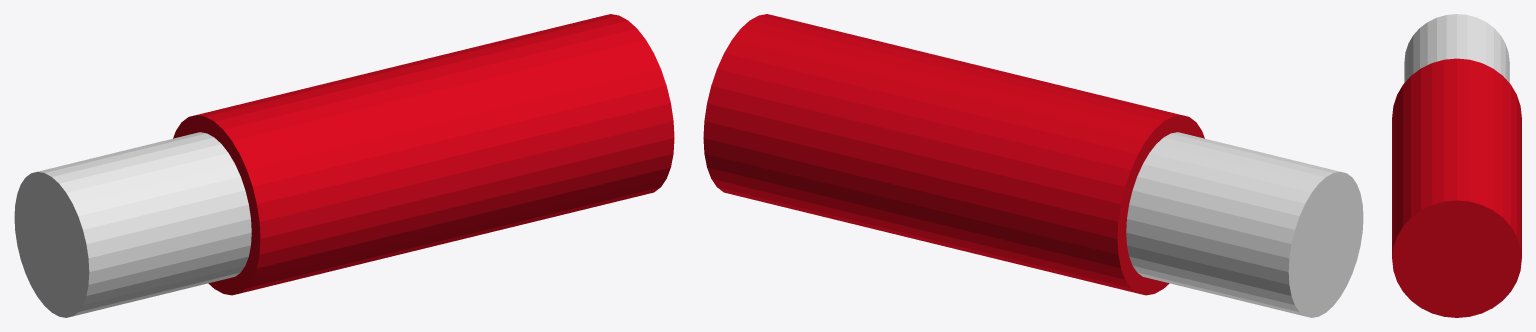
The model's file is Cannon.fbx.
3 views of the same model, side by side, from view 1: azimuth 30°, elevation 25°; view 2: azimuth 150°, elevation 25°; view 3: azimuth 270°, elevation 25° (orthographic). The views are drawn at different scales.
Visible parts, largest first — view 1: 円柱, 円柱.001; view 2: 円柱, 円柱.001; view 3: 円柱, 円柱.001.
Boxes of the visible parts, box(x1,y1,x2,y2) form: 円柱: box(173, 14, 674, 295); 円柱.001: box(14, 132, 251, 317); 円柱: box(703, 14, 1204, 295); 円柱.001: box(1126, 132, 1363, 317); 円柱: box(1392, 58, 1521, 317); 円柱.001: box(1404, 14, 1509, 82).
Size of the model in its own units: 803 by 223 by 223.
